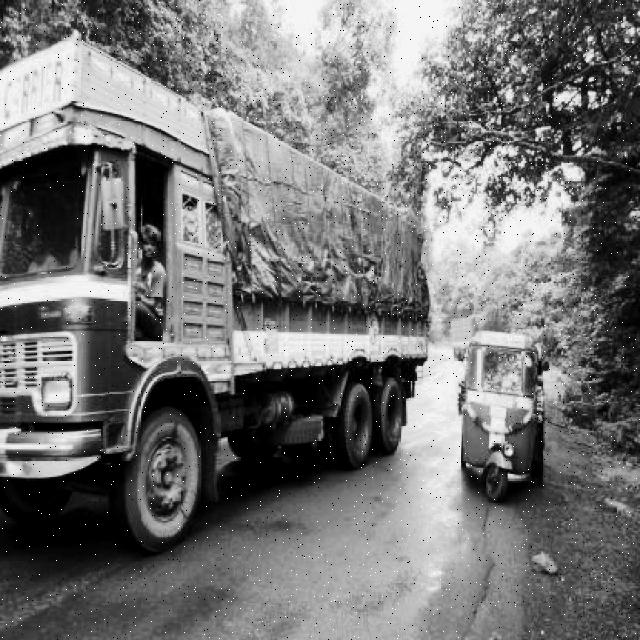HCV: (0, 79, 426, 496)
